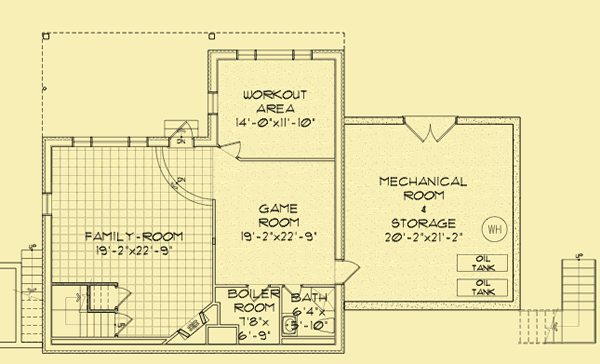door: (403, 115, 459, 144), (335, 258, 363, 284), (220, 139, 242, 161)
large_sink: (311, 315, 333, 336)
stairs: (520, 252, 598, 344), (47, 285, 118, 342), (18, 244, 45, 346)
window: (71, 134, 170, 151), (236, 46, 317, 64), (43, 191, 54, 217)
